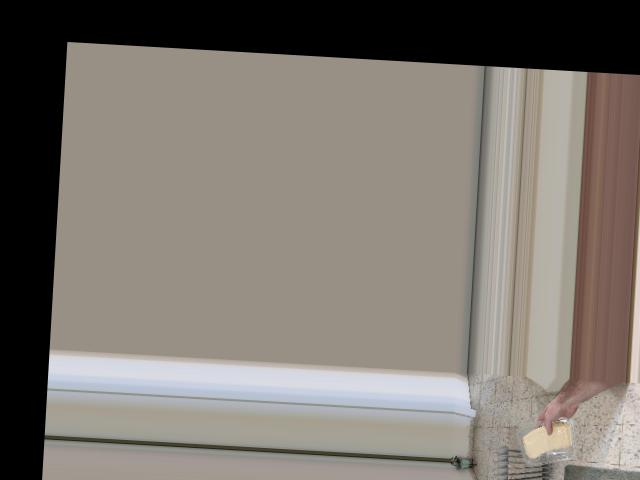cheese: (516, 417, 577, 462)
